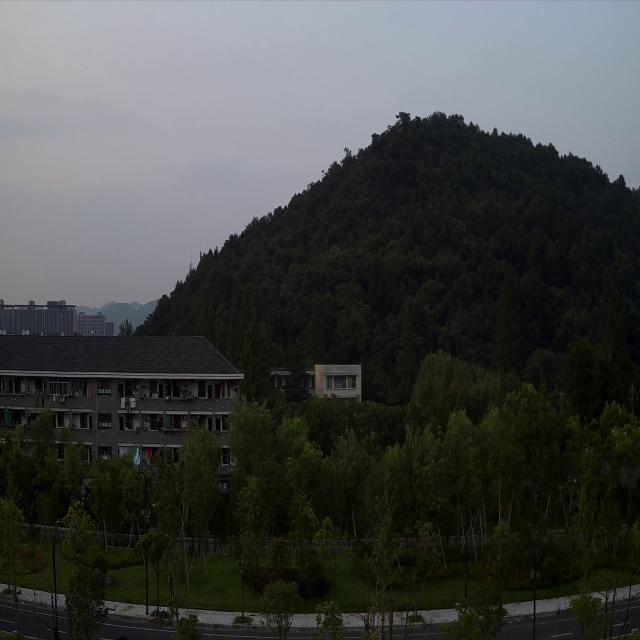UAV: (92, 601, 117, 621)
